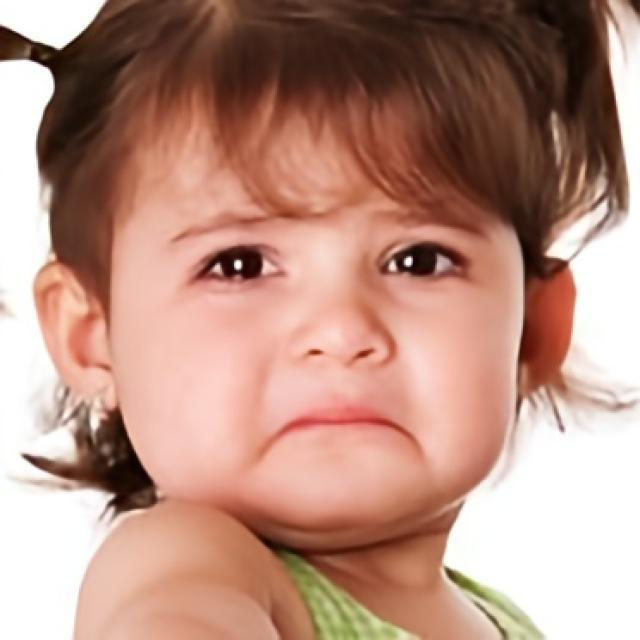Sad: (112, 64, 523, 532)
